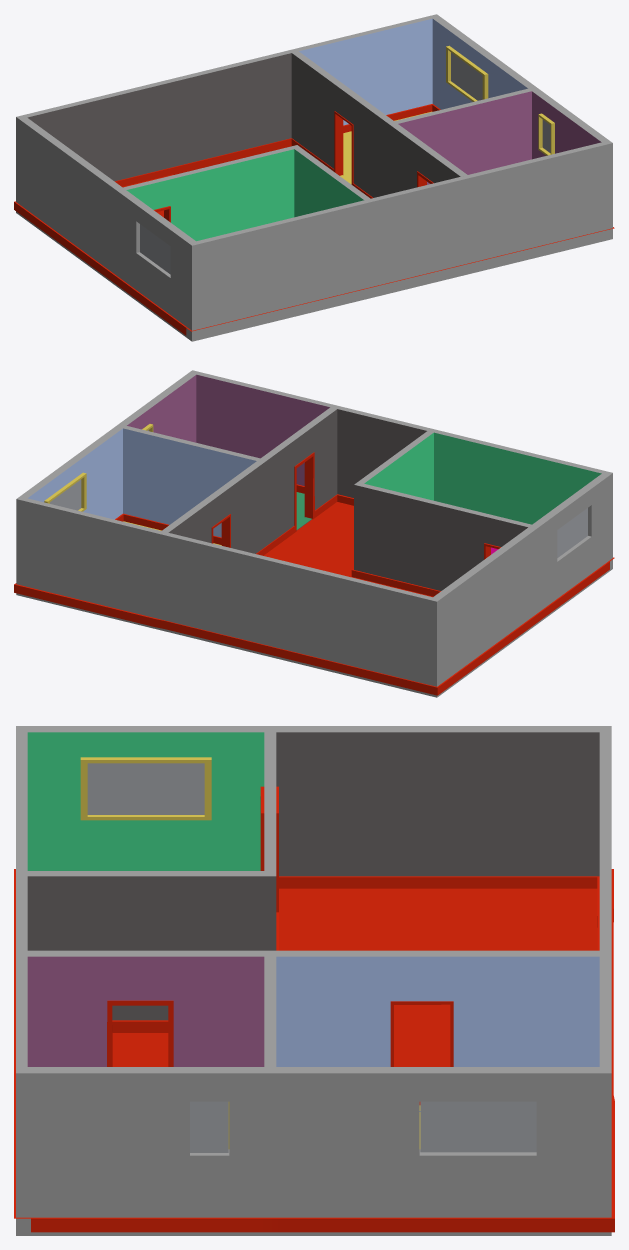
The model's file is Piso2.fbx.
The picture shows the model from 3 angles, top to bottom: view 1: azimuth 30°, elevation 25°; view 2: azimuth 150°, elevation 25°; view 3: azimuth 270°, elevation 25°; orthographic projection. The views are drawn at different scales.
Visible parts, largest first — view 1: bordes_2dop; view 2: bordes_2dop; view 3: bordes_2dop.
Part boxes in pixels (left/top/right/bottom): bordes_2dop: left=14, top=14, right=614, bottom=341; bordes_2dop: left=14, top=370, right=614, bottom=697; bordes_2dop: left=14, top=726, right=614, bottom=1235.
Bounding box in the file's own units: 13.95 × 3.02 × 10.13.
